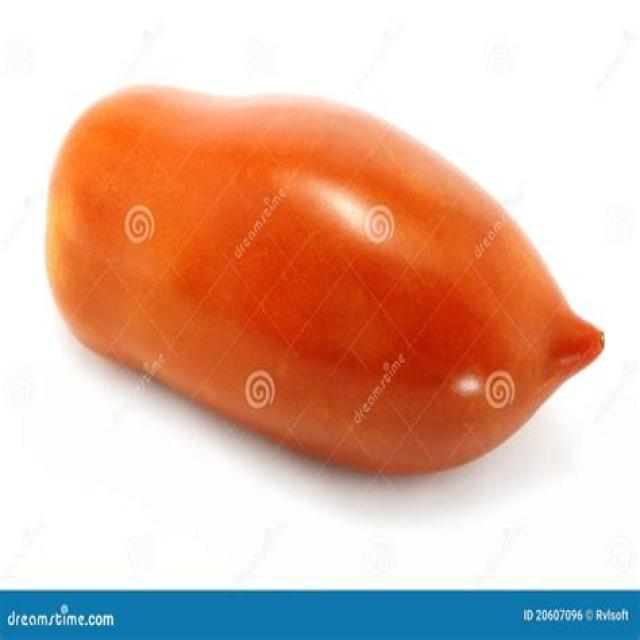Tomato: (43, 84, 606, 480)
